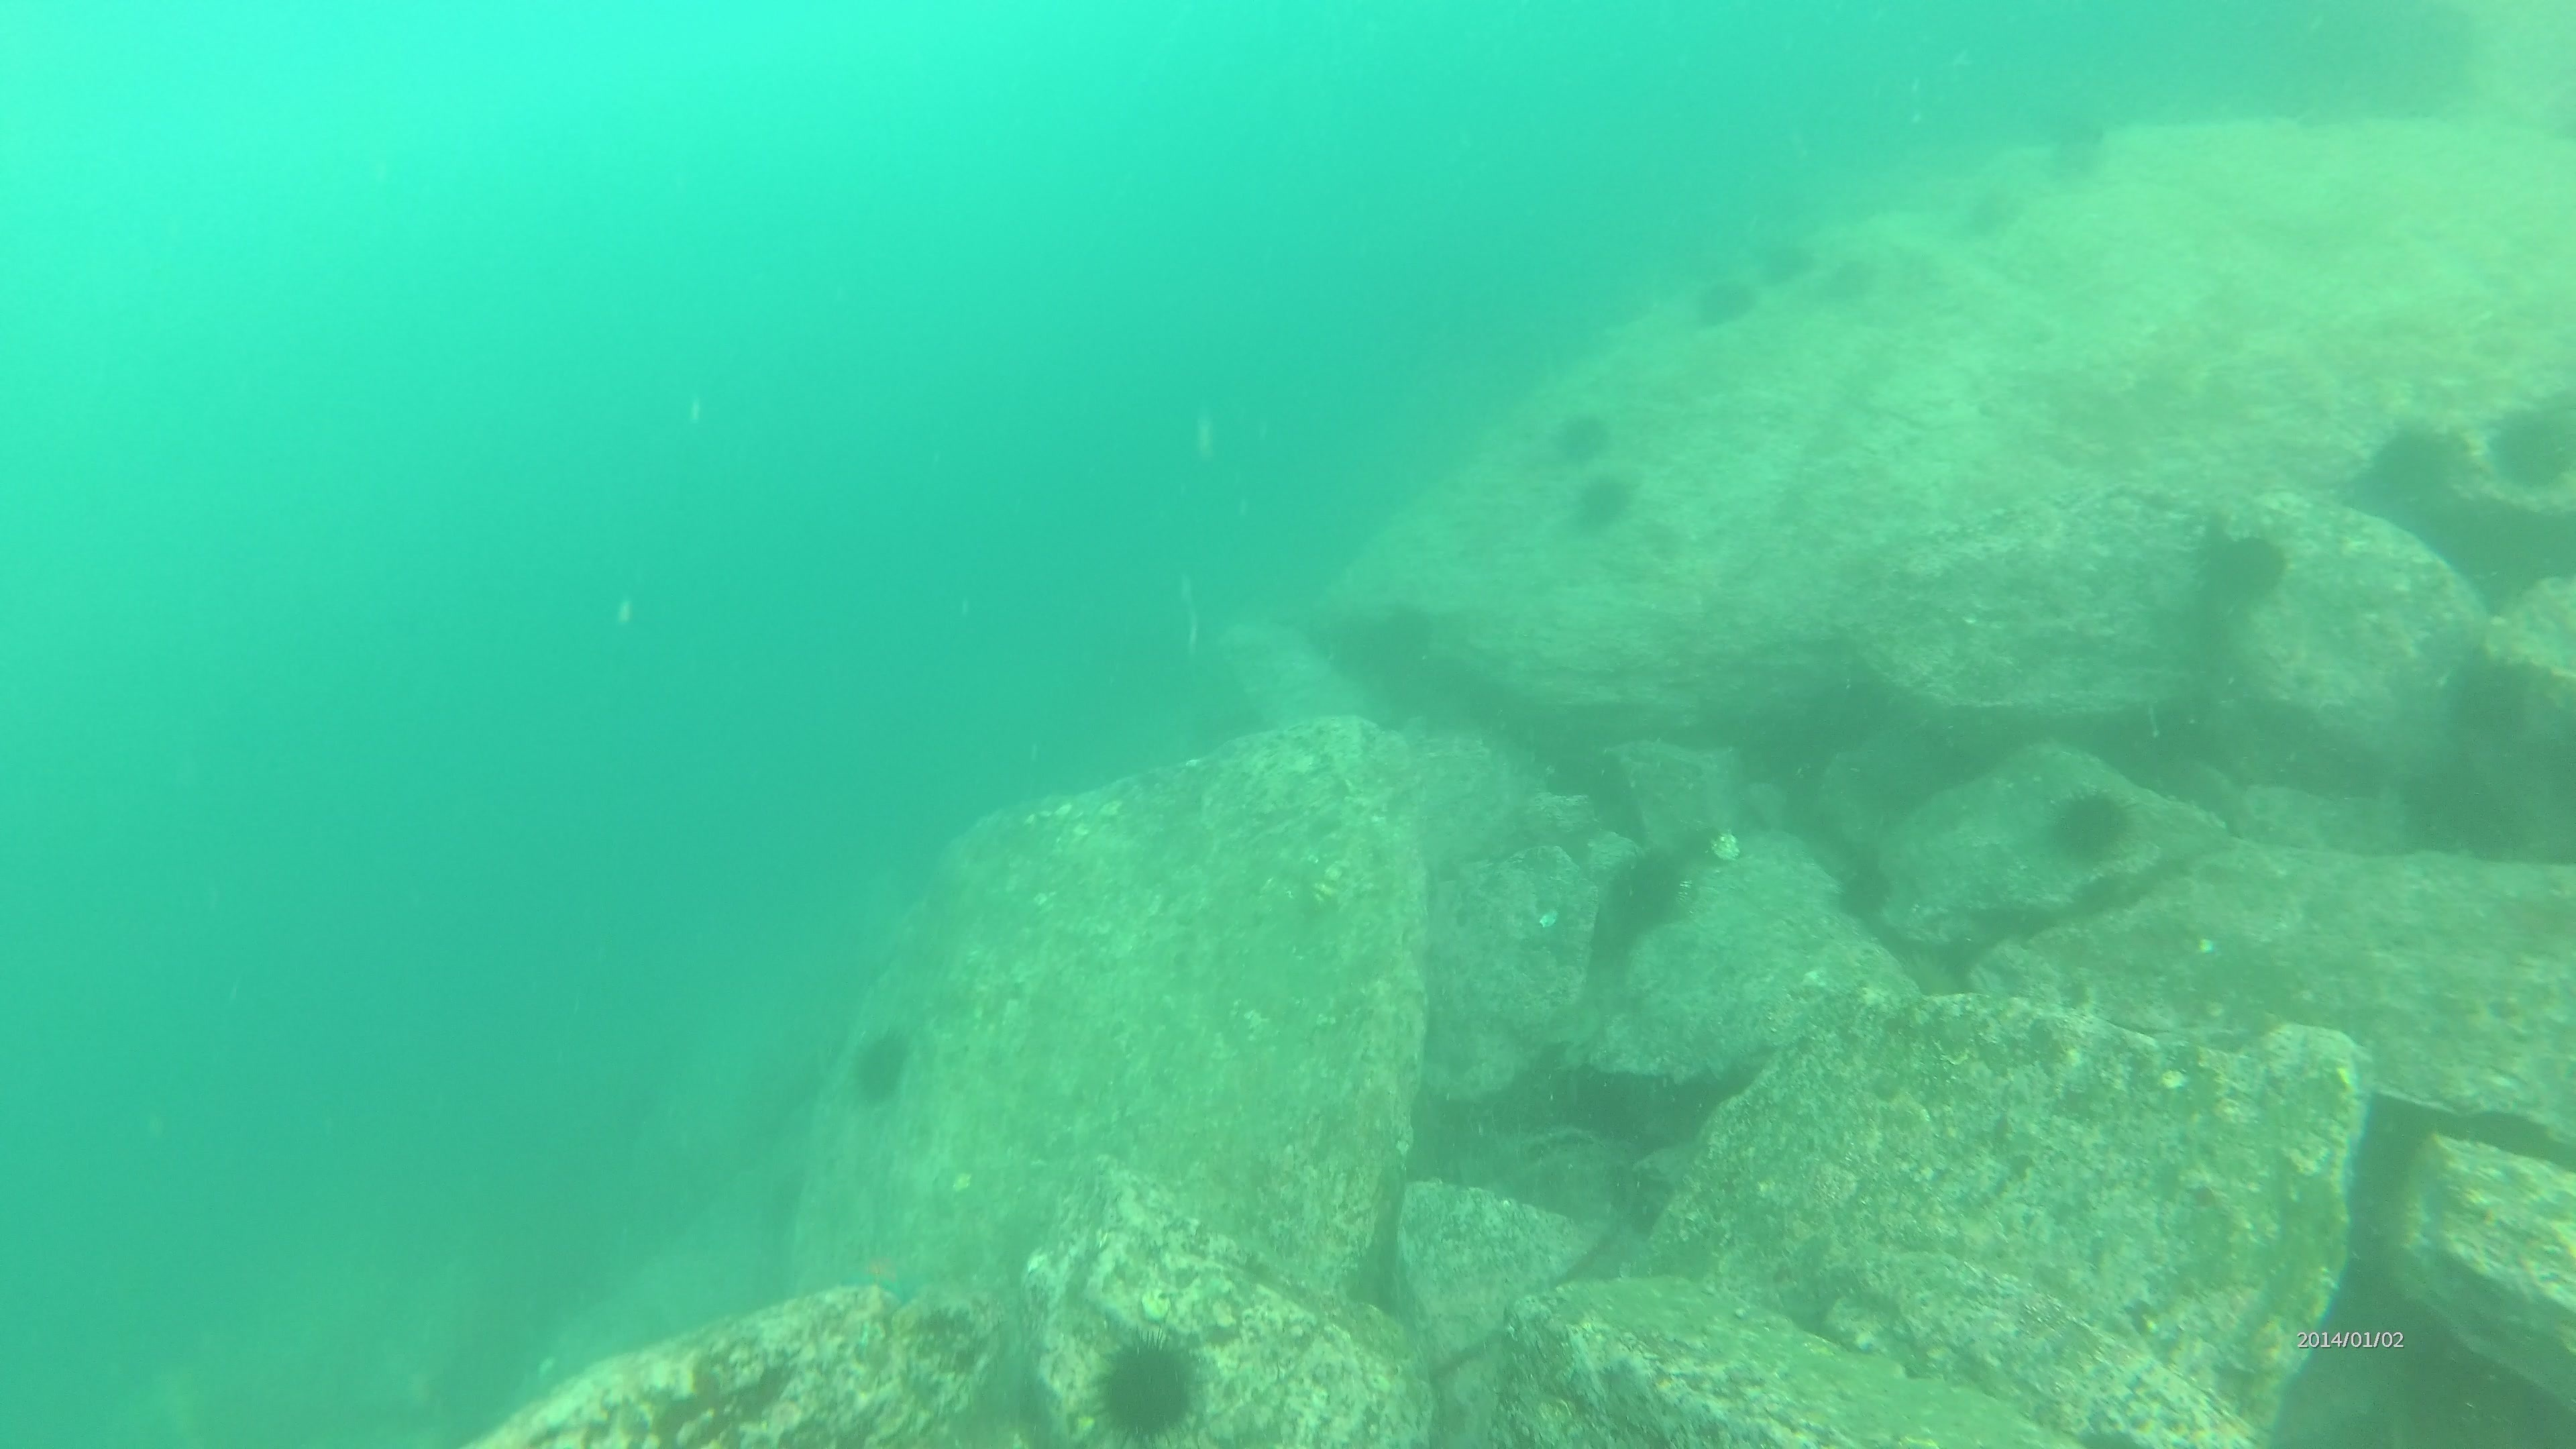echinus: (1085, 1325, 1208, 1444), (2357, 414, 2473, 525), (2192, 518, 2296, 616), (2484, 391, 2576, 499), (2038, 780, 2141, 872), (1601, 844, 1697, 939), (2035, 101, 2118, 189), (840, 1021, 920, 1111), (1824, 846, 1902, 927), (1564, 467, 1640, 538), (1684, 267, 1760, 336), (1812, 239, 1881, 310), (1953, 179, 2024, 244), (1548, 403, 1617, 469), (1753, 228, 1817, 292)
starfish: (847, 1231, 936, 1311)
